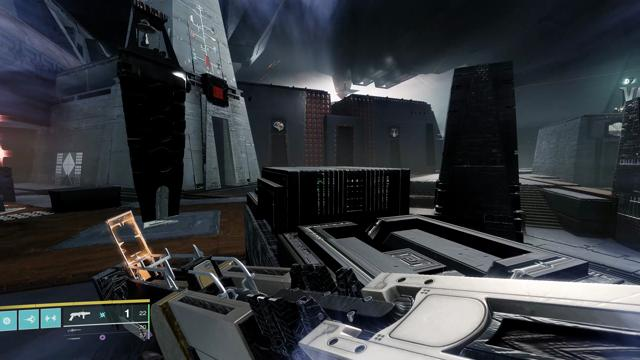brain: (272, 119, 285, 133)
commune: (608, 122, 622, 136)
drink: (389, 127, 399, 138)
stop: (209, 81, 227, 104)
